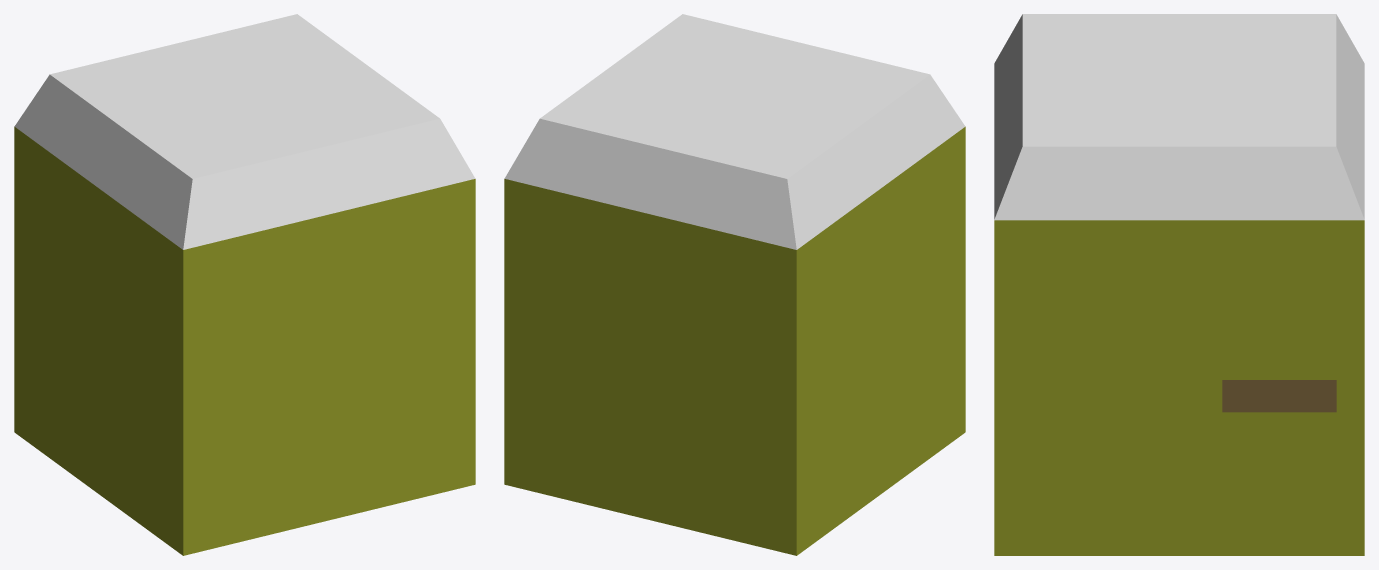
The model's file is Var_1.fbx.
3 renders of one model, left to right at view 1: azimuth 30°, elevation 25°; view 2: azimuth 150°, elevation 25°; view 3: azimuth 270°, elevation 25°, orthographic. The views are drawn at different scales.
Visible parts, largest first — view 1: Var_1; view 2: Var_1; view 3: Var_1.
Part boxes in pixels (x1,y1,x2,y2): Var_1: (14, 14, 475, 555); Var_1: (504, 14, 965, 555); Var_1: (994, 14, 1364, 555).
Size of the model in its own units: 10.43 by 12.26 by 10.36.
